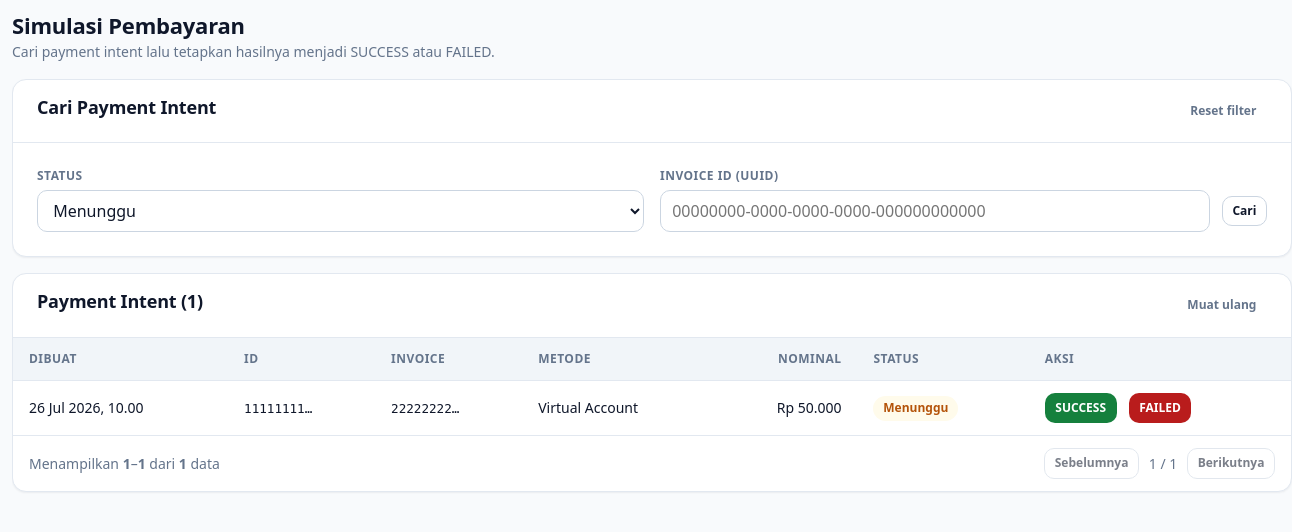
Test: search (SRS §4.4) › rejects a malformed UUID without querying
The width and height of the screenshot is (1292, 532).
Type "not-a-uuid" into the field labelled "Invoice ID (UUID)". click: [935, 211]
box: [660,190,1210,232]
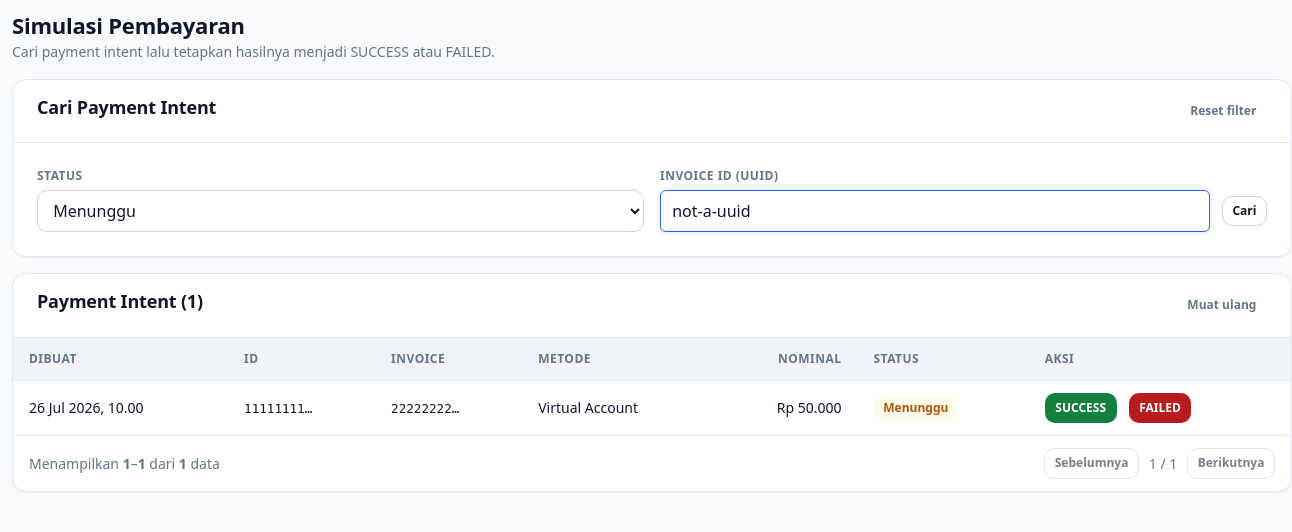
Click the button "Cari". click: [1244, 211]
box: [1222,196,1267,226]
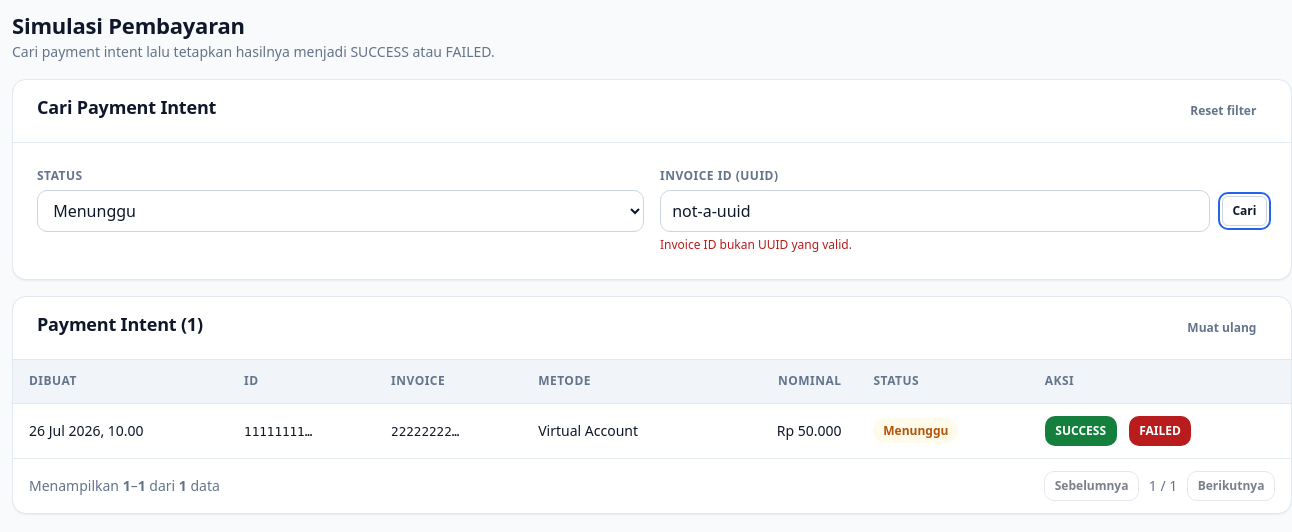
Result: the message shows "UUID" at [660,236,852,253]
